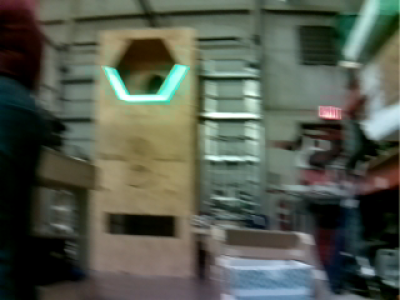target: (102, 64, 190, 104)
